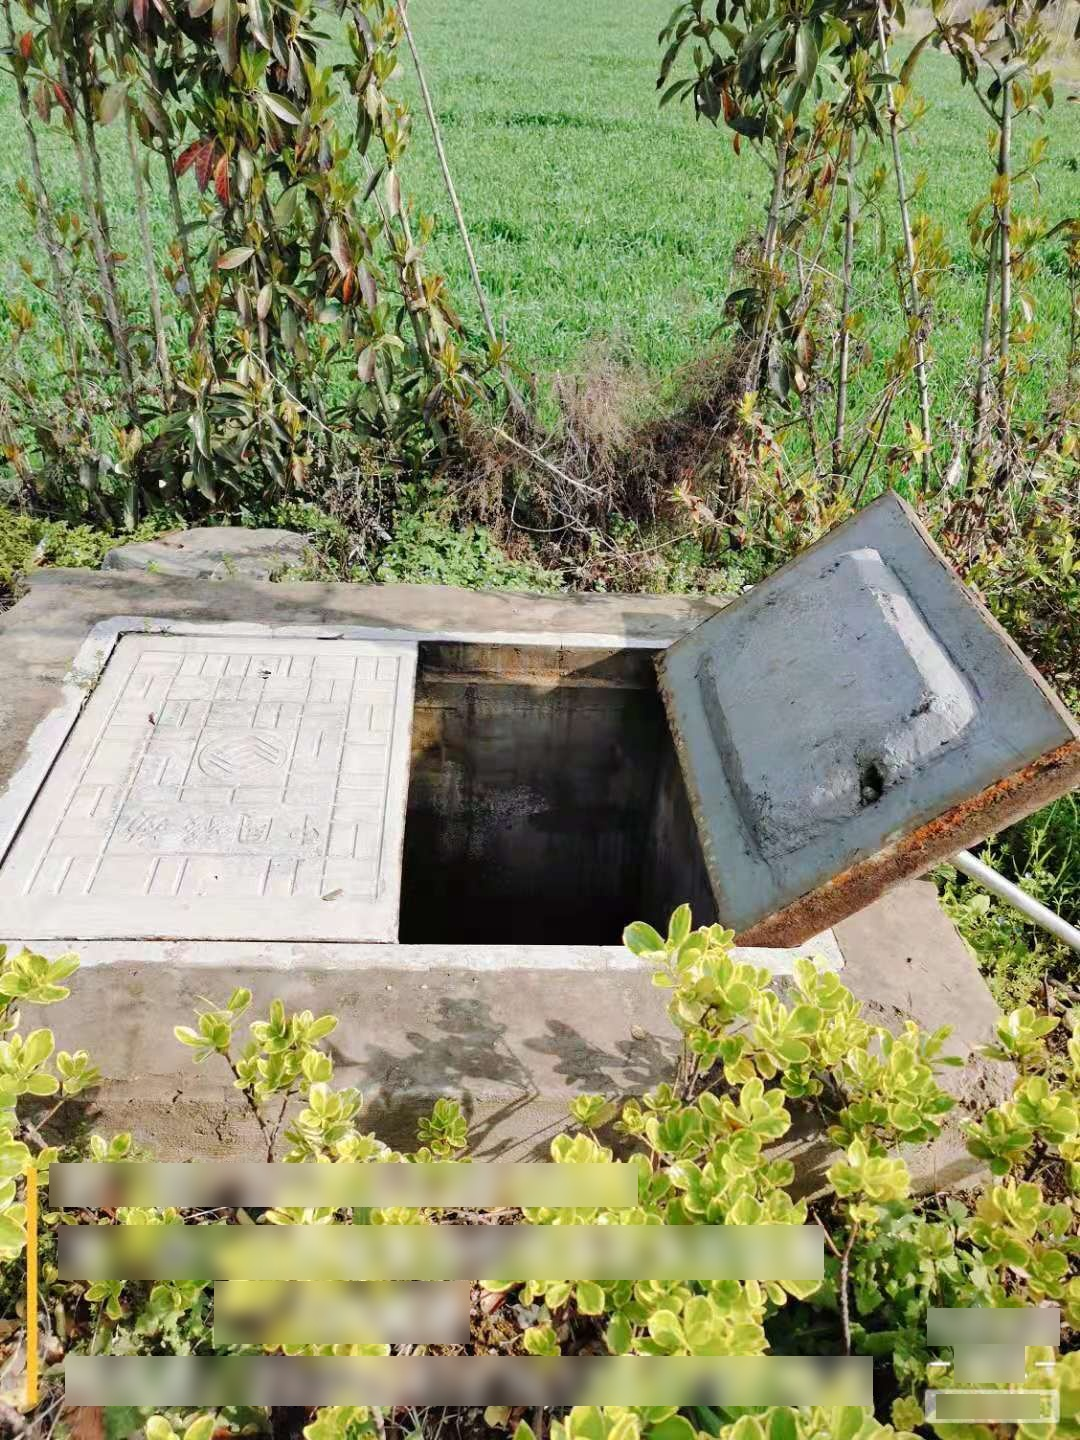uncovered: (10, 495, 1080, 977)
